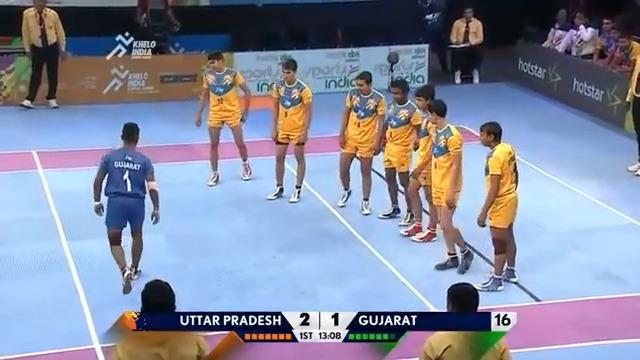Player: (422, 97, 473, 274), (472, 118, 522, 292), (192, 49, 254, 187), (335, 68, 387, 215), (264, 56, 314, 204), (382, 74, 415, 213), (414, 82, 444, 232)
Raider: (90, 119, 162, 294)
referee: (18, 0, 66, 109), (447, 7, 484, 84)
